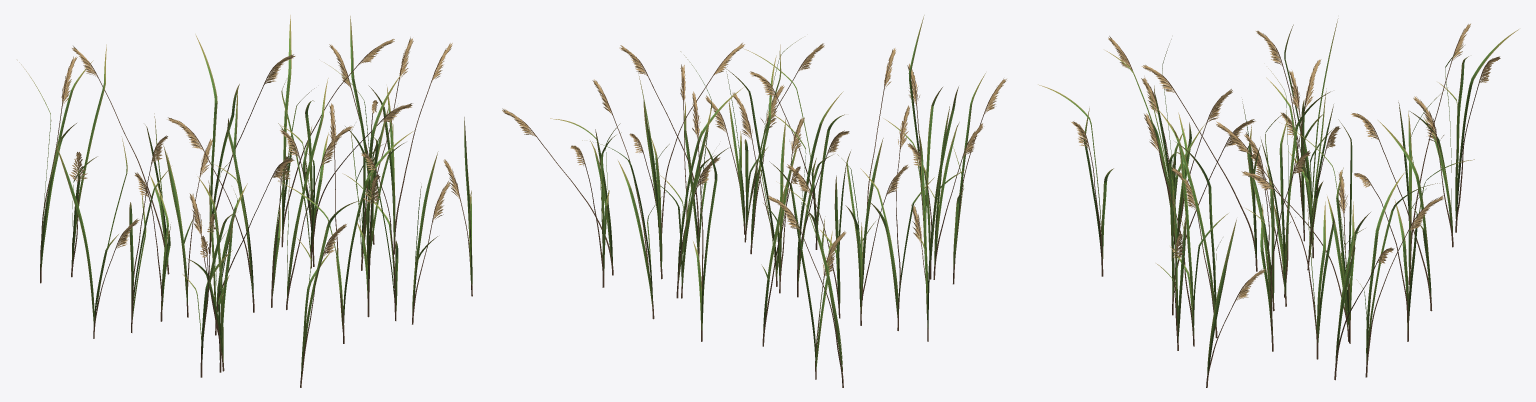
Rendered from reeds.fbx.
3 renders of one model, left to right at view 1: azimuth 30°, elevation 25°; view 2: azimuth 150°, elevation 25°; view 3: azimuth 270°, elevation 25°, orthographic. The views are drawn at different scales.
Visible parts, largest first — view 1: VP_Free_FieldPlant; view 2: VP_Free_FieldPlant; view 3: VP_Free_FieldPlant.
Part boxes in pixels (x1,y1,x2,y2): VP_Free_FieldPlant: (17, 15, 472, 387); VP_Free_FieldPlant: (502, 15, 1006, 387); VP_Free_FieldPlant: (1038, 18, 1518, 387).
Size of the model in its own units: 123 by 119 by 62.59.
